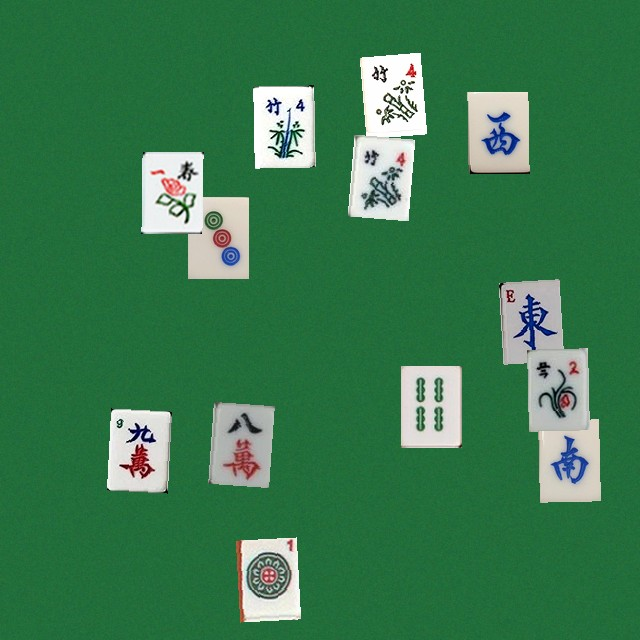tile: (538, 419, 599, 501), (187, 196, 248, 278), (498, 279, 559, 361), (359, 52, 420, 134), (527, 348, 588, 430), (106, 408, 167, 490), (235, 537, 296, 619), (400, 365, 461, 447), (253, 85, 314, 167), (141, 151, 202, 233), (208, 401, 269, 483), (467, 91, 528, 173), (347, 134, 408, 216)
